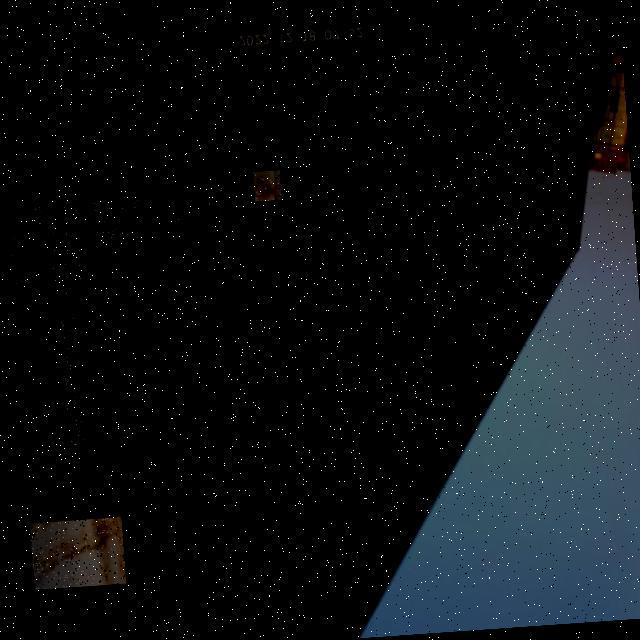Rust: (30, 517, 126, 590), (5, 201, 82, 284), (59, 285, 86, 447), (25, 82, 61, 188), (91, 196, 148, 241), (174, 185, 231, 220), (253, 170, 282, 202)
